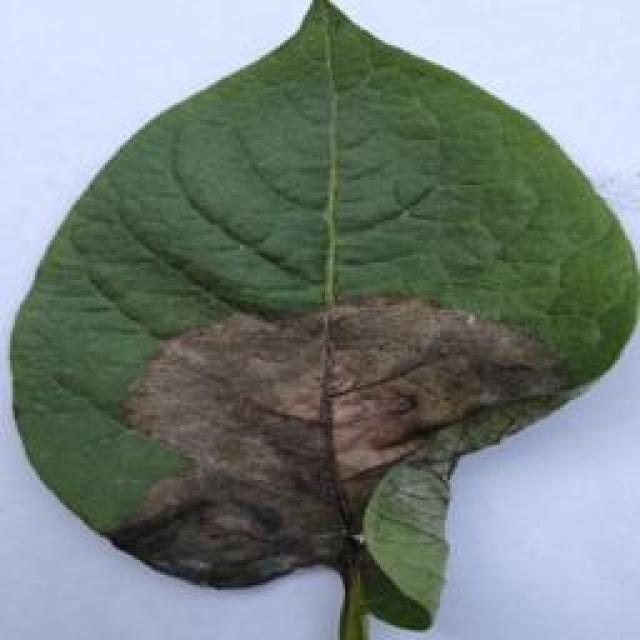Potato_Late_Blight: (4, 19, 632, 639)
